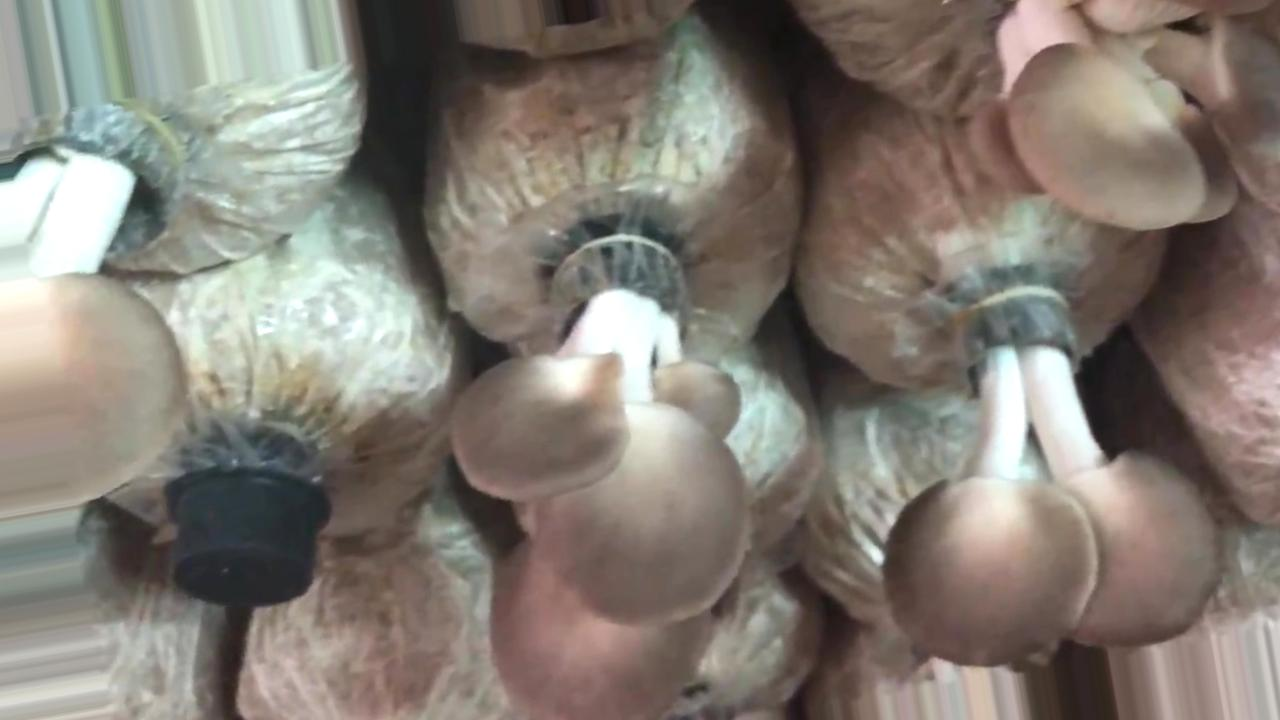nam: (454, 238, 749, 720), (889, 293, 1221, 667), (1, 116, 184, 504), (993, 1, 1280, 230)
